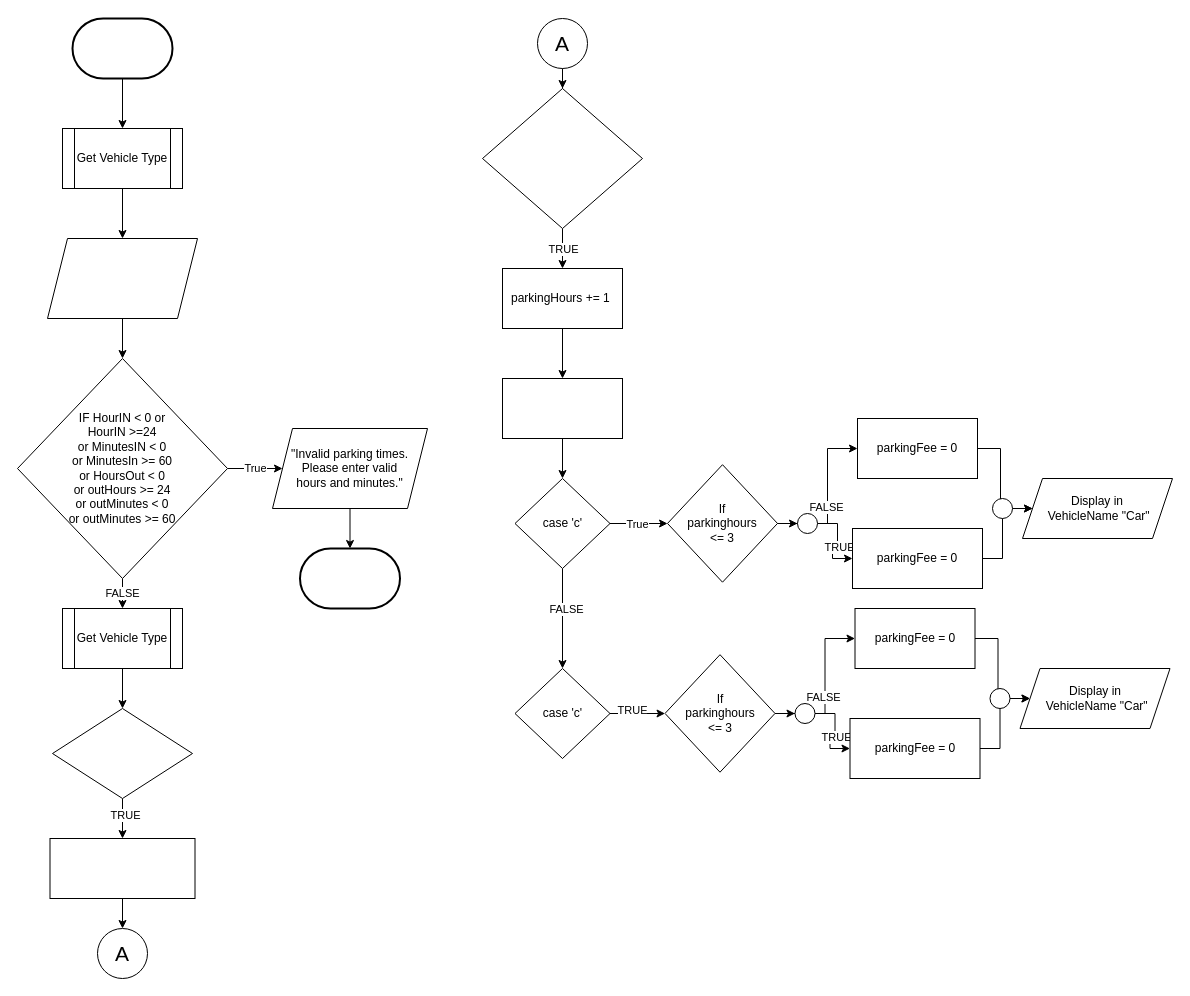
The diagram is 1190 pixels wide and 996 high, and some of its shapes have lost their labels. The box of each missing label's shape, as (x1, y1, x2, y2) in pixels:
Begin: (71, 17, 173, 79)
If parkingMinutes >=60: (52, 708, 192, 798)
If roundedHours = (parkingMinutes >= 30): (482, 88, 642, 228)
Input Hour in, Minute in, Hour out and Minute out: (46, 238, 198, 318)
parkingMinutes %= 60 parkingHours += 1: (49, 838, 195, 898)
Return 1: (298, 547, 400, 609)
Switch Vehicle Type: (502, 378, 622, 438)
